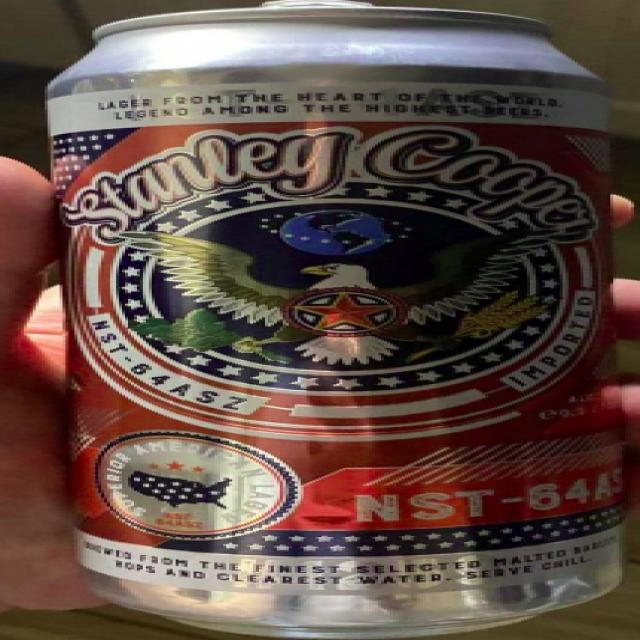Stanley Cooper: (0, 1, 640, 640)
